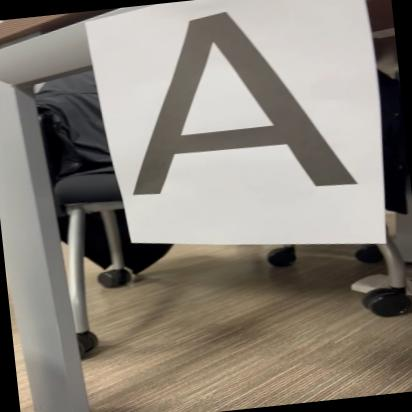seat: (110, 0, 365, 221)
